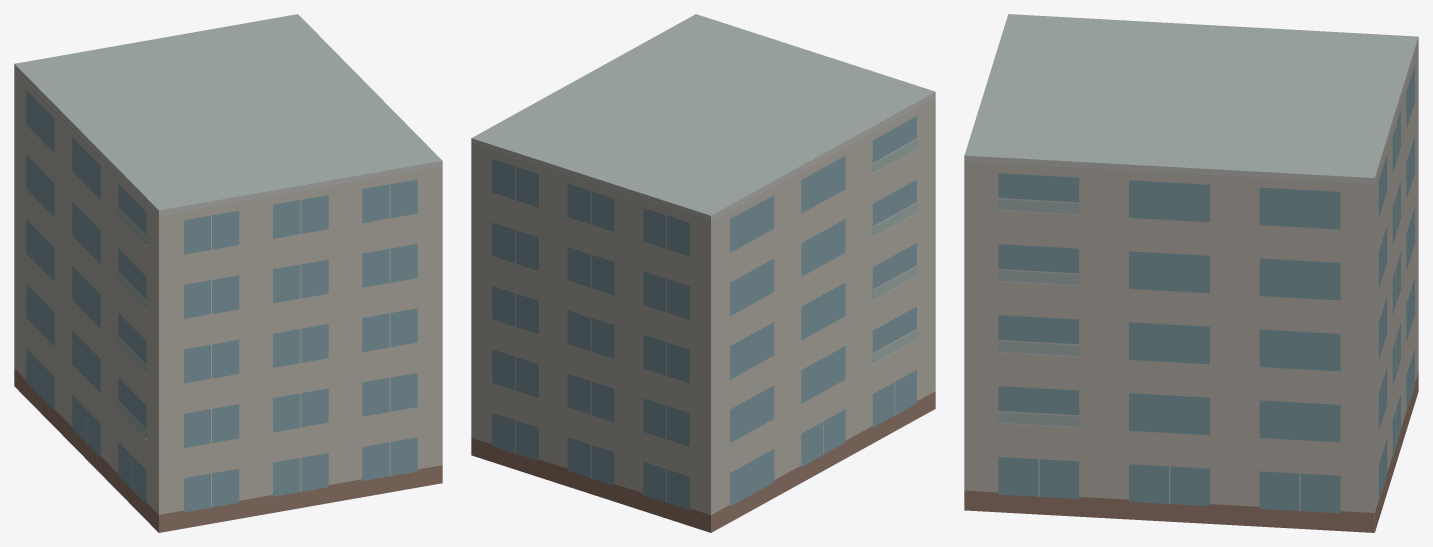
Rendered from survey-upis-32899959.glb.
3 views of the same model, side by side, from view 1: azimuth 30°, elevation 25°; view 2: azimuth 150°, elevation 25°; view 3: azimuth 270°, elevation 25° (orthographic). The views are drawn at different scales.
Visible parts, largest first — view 1: survey-upis-32899959.tmp; view 2: survey-upis-32899959.tmp; view 3: survey-upis-32899959.tmp.
Part boxes in pixels (x1=…): survey-upis-32899959.tmp: x1=14, y1=14, x2=442, y2=532; survey-upis-32899959.tmp: x1=471, y1=14, x2=935, y2=532; survey-upis-32899959.tmp: x1=964, y1=14, x2=1418, y2=532.
Bounding box in the file's own units: 14.59 × 14.7 × 17.06.
